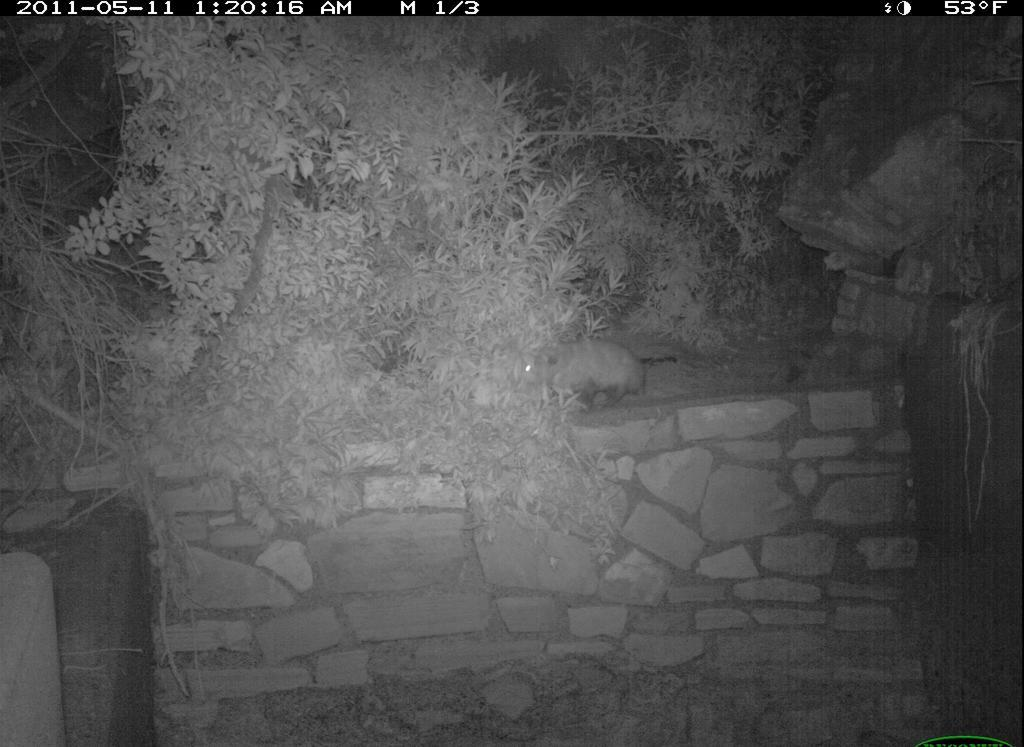opossum: (496, 332, 679, 420)
